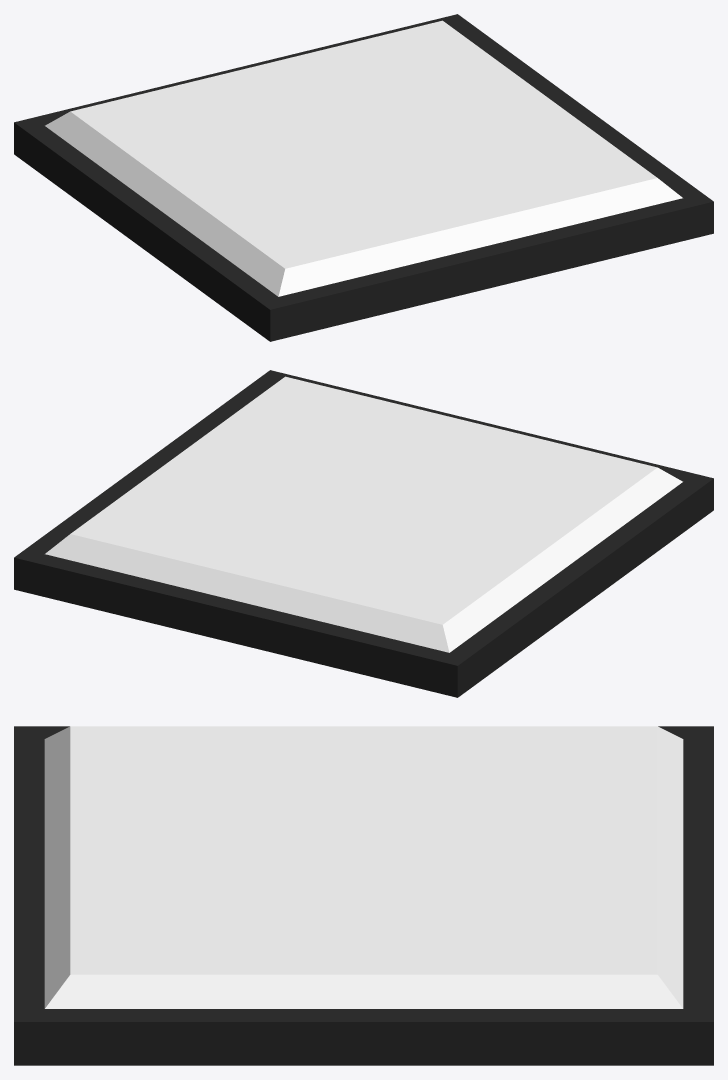
The model's file is light3.FBX.
3 renders of one model, top to bottom at view 1: azimuth 30°, elevation 25°; view 2: azimuth 150°, elevation 25°; view 3: azimuth 270°, elevation 25°, orthographic. The views are drawn at different scales.
Parts seen in each view (by area): view 1: light3; view 2: light3; view 3: light3.
Part boxes in pixels (box(x1,y1,x2,y2)): light3: box(14, 14, 713, 341); light3: box(14, 370, 713, 697); light3: box(14, 726, 713, 1065).
Size of the model in its own units: 3 by 0.3184 by 3.
